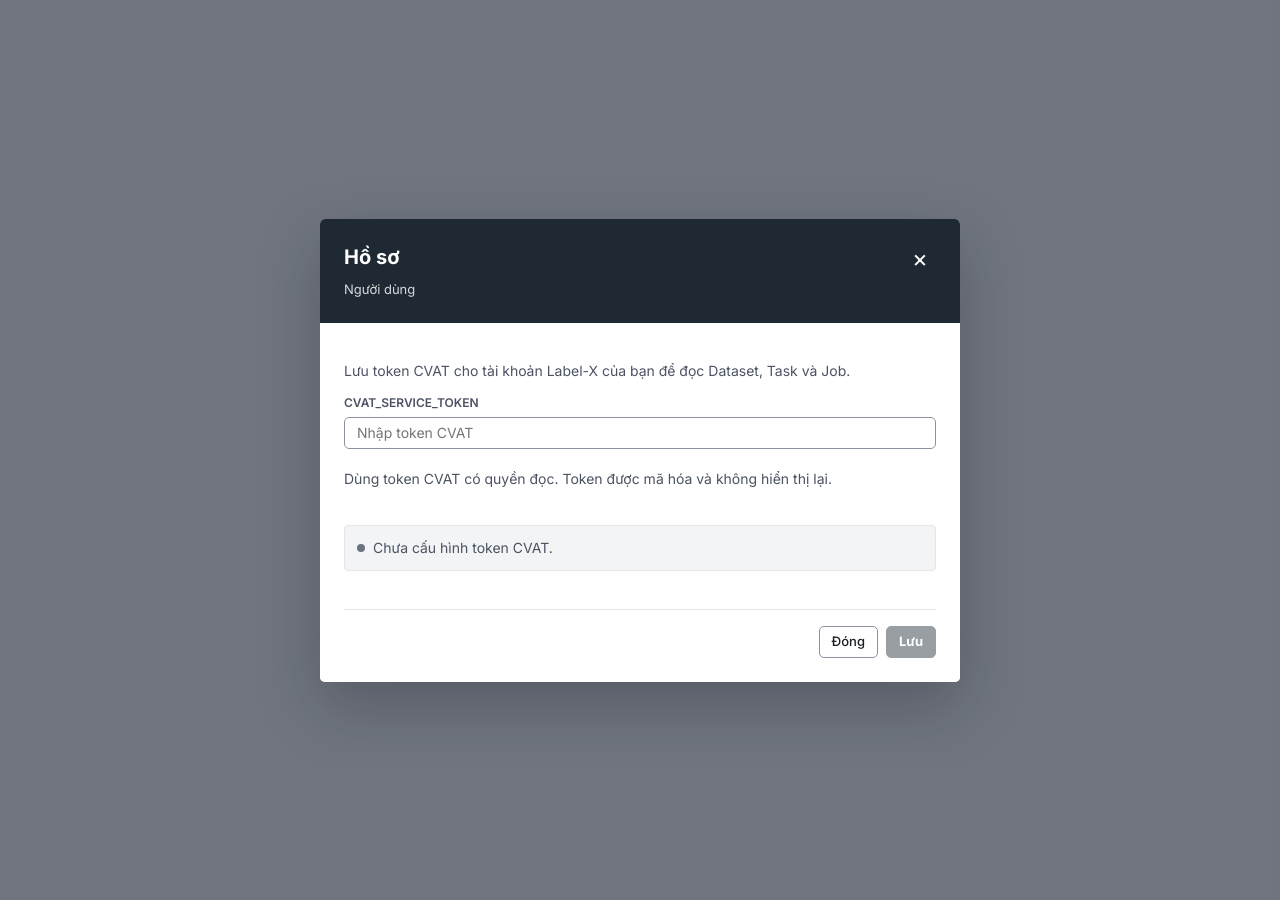
submits a masked token and clears it after saving
The width and height of the screenshot is (1280, 900).
Expected: the text "Chưa cấu hình token CVAT." is shown, [344,524,936,570]
Expected: the button "Lưu" is disabled, [886,626,936,658]
Type "personal-secret" into the password field labelled "CVAT_SERVICE_TOKEN" at coordinates (640, 432), box [344,416,936,448]
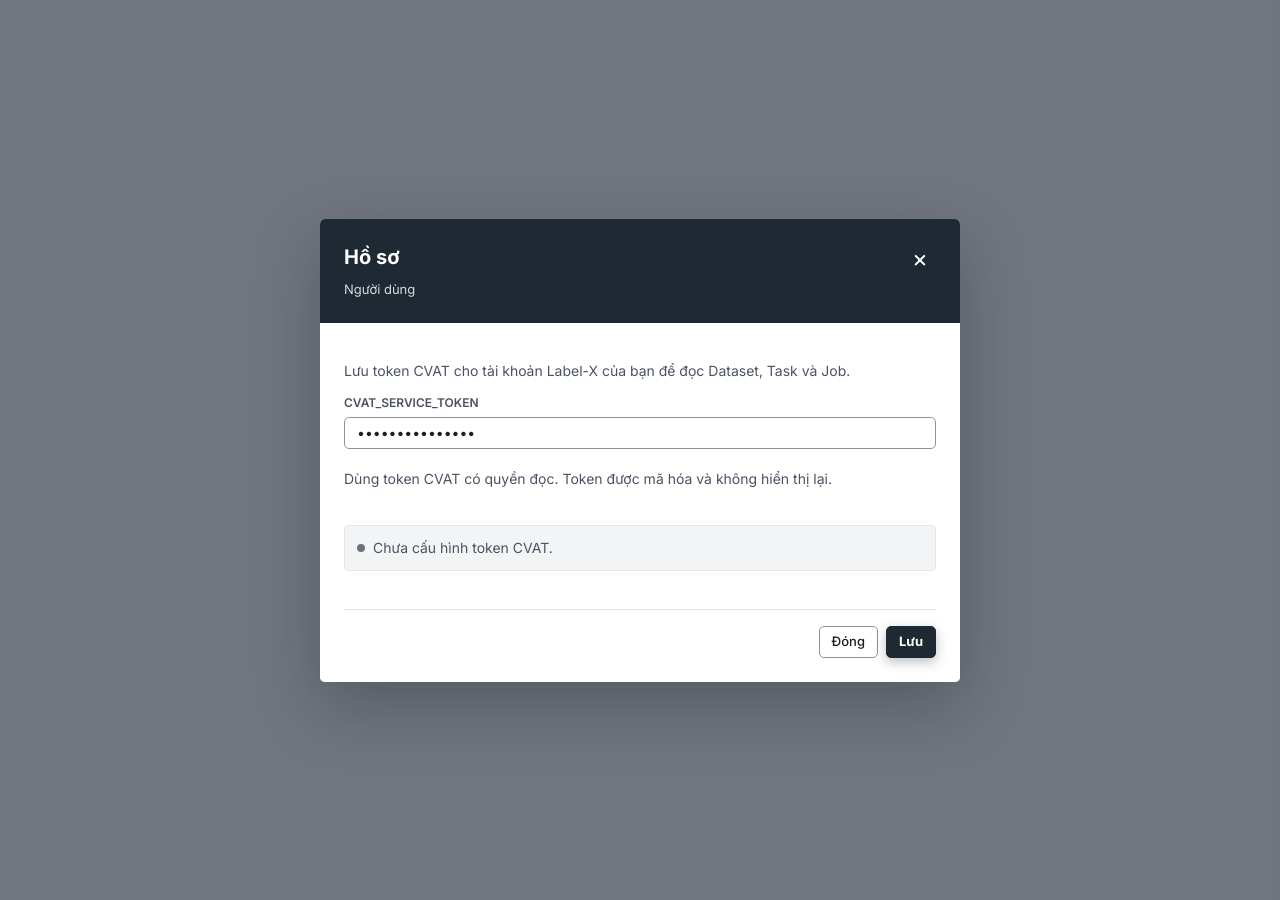
Click the button "Lưu" at coordinates (911, 642), box [886,626,936,658]
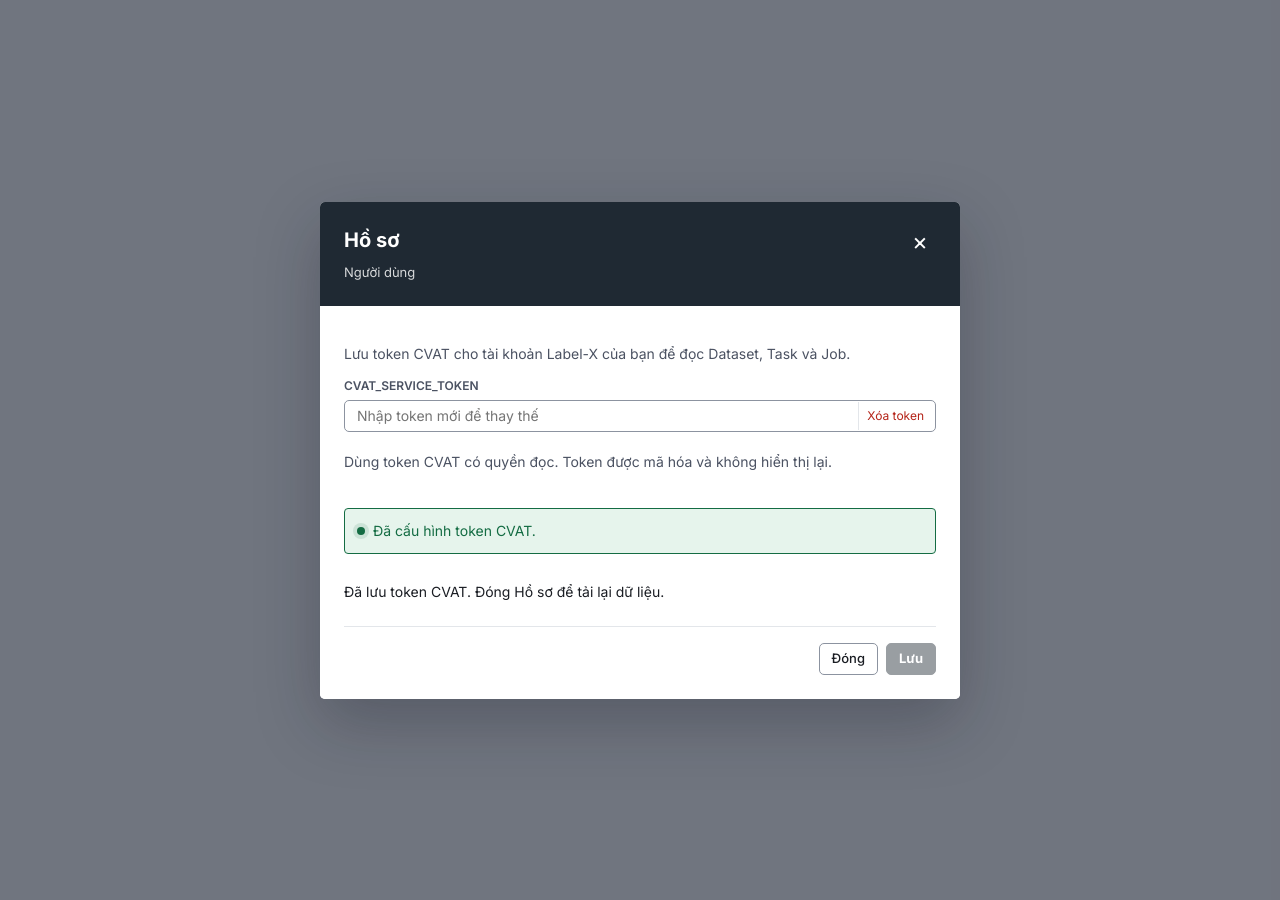
Now the text "Đã lưu token CVAT. Đóng Hồ sơ để tải lại dữ liệu." is shown, box [344,582,664,600]
Now the password field labelled "CVAT_SERVICE_TOKEN" is empty, box [344,400,936,432]
